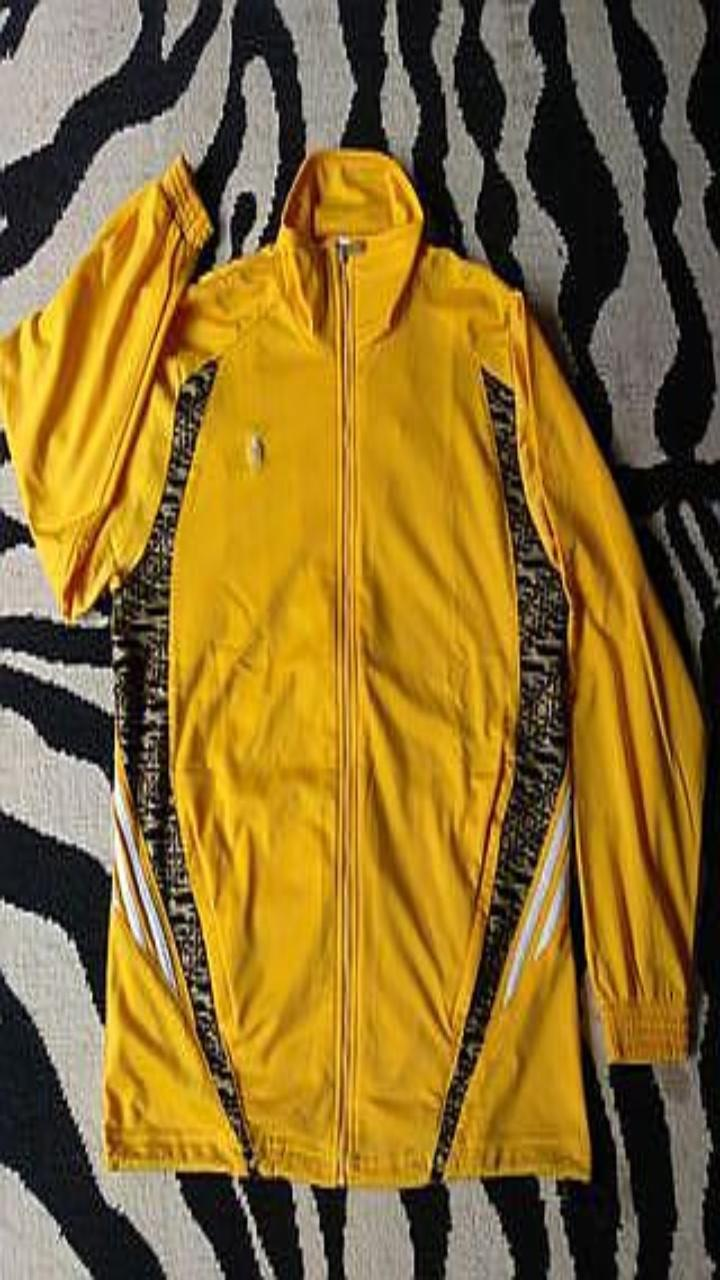Sports_Jacket: (0, 147, 706, 1185)
